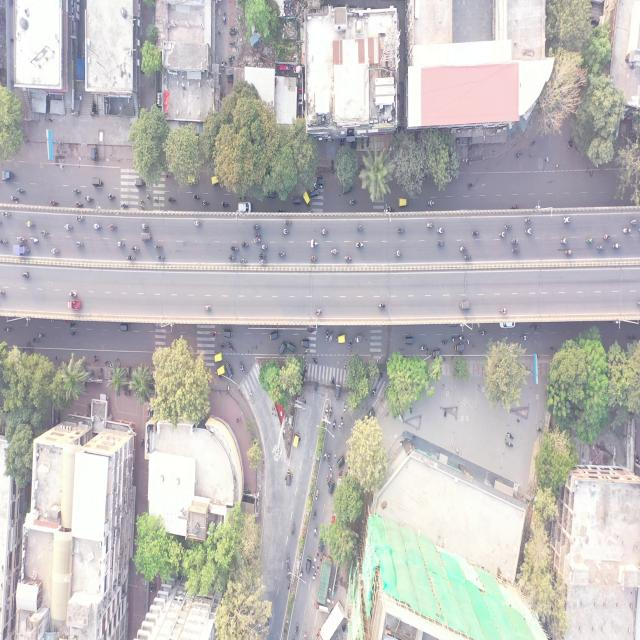3W: (278, 338, 286, 358), (1, 170, 15, 180), (336, 456, 346, 469), (336, 332, 346, 345), (334, 384, 342, 400), (292, 431, 299, 449), (459, 300, 470, 311), (119, 323, 130, 334), (226, 360, 232, 380), (285, 469, 292, 486), (404, 335, 414, 346), (316, 176, 326, 187), (92, 176, 102, 187), (213, 352, 223, 363), (287, 341, 296, 353), (91, 146, 97, 163), (398, 197, 408, 207), (309, 188, 319, 198), (222, 329, 232, 339), (293, 195, 302, 206), (217, 364, 225, 376), (306, 556, 311, 575), (431, 349, 440, 359), (455, 343, 465, 352), (328, 481, 334, 496), (135, 178, 144, 187), (270, 330, 278, 340), (300, 340, 308, 348), (21, 272, 30, 279), (76, 215, 83, 222)
Cars: (237, 202, 252, 212)
LCV: (12, 243, 29, 256), (68, 300, 82, 310), (140, 232, 152, 241)
M2W: (108, 222, 118, 230), (204, 304, 212, 314), (14, 187, 25, 194), (26, 220, 35, 228), (65, 222, 73, 231), (394, 249, 402, 258), (290, 522, 296, 534), (3, 326, 12, 334), (29, 237, 39, 244), (50, 248, 60, 255), (437, 238, 444, 248), (371, 387, 377, 398), (94, 222, 102, 230), (344, 255, 352, 263), (525, 228, 533, 236), (612, 242, 620, 250), (623, 227, 631, 235), (530, 324, 538, 332), (70, 330, 78, 338), (2, 211, 11, 218), (17, 236, 26, 243), (40, 229, 49, 236), (85, 195, 94, 202), (75, 241, 84, 248), (126, 254, 135, 261), (107, 193, 116, 200), (157, 253, 166, 260), (230, 245, 239, 252), (228, 254, 237, 261), (253, 237, 262, 244), (311, 239, 318, 248), (32, 335, 39, 344), (154, 244, 164, 250), (313, 526, 318, 538), (0, 236, 7, 244), (75, 200, 83, 207), (68, 290, 76, 297), (168, 196, 176, 203), (194, 220, 202, 227), (241, 241, 249, 248), (260, 258, 267, 266), (278, 250, 286, 257), (320, 228, 328, 235), (310, 254, 318, 261), (331, 247, 338, 255), (356, 223, 364, 230), (378, 302, 386, 309), (471, 230, 479, 237), (512, 246, 519, 254), (604, 234, 611, 242), (520, 334, 528, 341), (286, 554, 290, 568), (314, 309, 322, 316), (9, 194, 18, 200), (50, 199, 59, 205), (120, 203, 129, 209), (239, 258, 248, 264), (560, 238, 569, 244), (329, 406, 334, 416), (315, 490, 320, 500), (141, 222, 148, 229), (202, 200, 209, 207), (261, 243, 268, 250), (285, 220, 292, 227), (397, 226, 404, 233), (459, 245, 466, 252), (464, 254, 471, 261), (499, 231, 506, 238), (511, 203, 518, 210), (563, 217, 570, 224), (586, 237, 593, 244), (387, 205, 394, 212), (70, 322, 77, 329), (39, 332, 46, 339), (72, 188, 80, 194), (117, 242, 125, 248), (132, 246, 140, 252), (192, 195, 200, 201), (221, 201, 229, 207), (356, 242, 364, 248), (350, 200, 358, 206), (565, 249, 573, 255), (498, 308, 506, 314), (450, 335, 456, 343), (440, 340, 448, 346), (325, 329, 329, 341), (331, 376, 335, 388), (327, 450, 331, 462), (313, 508, 317, 520), (428, 199, 434, 207), (300, 568, 304, 580), (295, 624, 299, 636), (253, 232, 262, 237), (348, 339, 352, 350), (332, 420, 336, 431), (286, 568, 290, 579), (253, 223, 259, 230), (259, 252, 266, 258), (282, 228, 289, 234), (427, 222, 434, 228), (437, 228, 443, 235), (504, 223, 511, 229), (512, 238, 519, 244), (525, 218, 532, 224), (597, 245, 604, 251), (479, 330, 485, 337), (457, 335, 464, 341), (468, 183, 475, 189), (630, 219, 638, 224), (330, 331, 333, 344), (516, 152, 521, 159), (324, 450, 326, 462)
